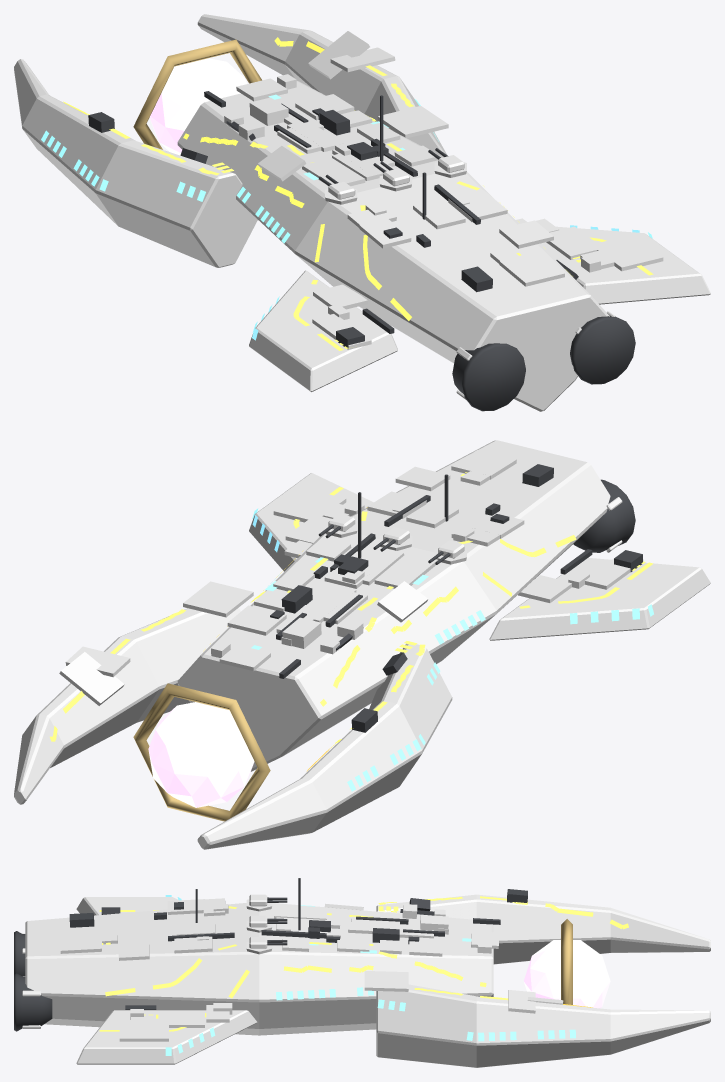
The model's file is orakul.glb.
3 renders of one model, top to bottom at view 1: azimuth 30°, elevation 25°; view 2: azimuth 150°, elevation 25°; view 3: azimuth 270°, elevation 25°, orthographic. The views are drawn at different scales.
Parts seen in each view (by area): view 1: Корпус, Накладные_плиты, Рог.001, Ангарное_крыло.001, Рог, Ангарное_крыло, Механика, Око, Кожух_дюзы.001, Кожух_дюзы, Разметка, Оправа_ока (+1 smaller); view 2: Корпус, Накладные_плиты, Рог.001, Рог, Ангарное_крыло.001, Око, Механика, Оправа_ока, Разметка, Ангарное_крыло, Кожух_дюзы.001, Решётки; view 3: Корпус, Рог, Накладные_плиты, Рог.001, Ангарное_крыло, Око, Механика, Разметка, Решётки, Кожух_дюзы, Ангарное_крыло.001, Оправа_ока (+1 smaller).
Part boxes in pixels (x1,y1,x2,y2): Корпус: (177,81,609,411); Накладные_плиты: (224,31,663,349); Рог.001: (14,59,257,267); Ангарное_крыло.001: (249,270,397,392); Рог: (197,14,446,157); Ангарное_крыло: (539,226,710,304); Механика: (88,91,578,349); Око: (149,58,247,155); Кожух_дюзы.001: (452,343,525,411); Кожух_дюзы: (570,316,635,384); Разметка: (63,37,653,350); Оправа_ока: (133,39,261,149); Корпус: (177,440,610,771); Накладные_плиты: (59,450,643,705); Рог.001: (197,643,452,849); Рог: (14,607,240,804); Ангарное_крыло.001: (489,557,710,640); Око: (148,702,254,807); Механика: (270,464,642,732); Оправа_ока: (133,683,270,821); Разметка: (50,472,653,771); Ангарное_крыло: (249,473,373,571); Кожух_дюзы.001: (573,479,635,552); Решётки: (251,508,653,791); Корпус: (25,903,493,1035); Рог: (376,984,710,1067); Накладные_плиты: (60,898,563,1041); Рог.001: (376,894,710,964); Ангарное_крыло: (76,1010,257,1064); Око: (523,940,610,1008); Механика: (69,878,527,1009); Разметка: (99,896,628,1031); Решётки: (165,895,575,1055); Кожух_дюзы: (14,973,52,1031); Ангарное_крыло.001: (76,897,178,915); Оправа_ока: (561,919,572,1004).
Size of the model in its own units: 1.1 by 0.5298 by 2.08.
